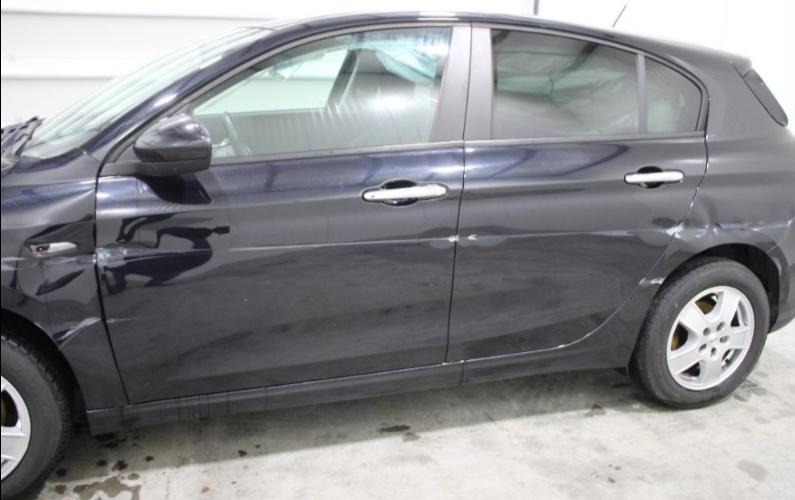Back-bumper: (768, 218, 794, 332)
Back-door: (445, 21, 711, 362)
Back-wheel: (628, 257, 770, 409)
Back-window: (491, 29, 638, 139), (645, 57, 701, 133)
Fender: (1, 150, 130, 412)
Front-door: (96, 21, 472, 405)
Front-wheel: (0, 324, 70, 500)
Front-window: (187, 27, 451, 158)
Hood: (1, 120, 41, 179)
Mirror: (100, 113, 212, 177)
Quarter-panel: (562, 137, 795, 348)
Rocker-panel: (87, 341, 635, 434)
Roof: (237, 10, 740, 77)
Trunk: (731, 56, 794, 135)
Windshield: (20, 26, 280, 162)
